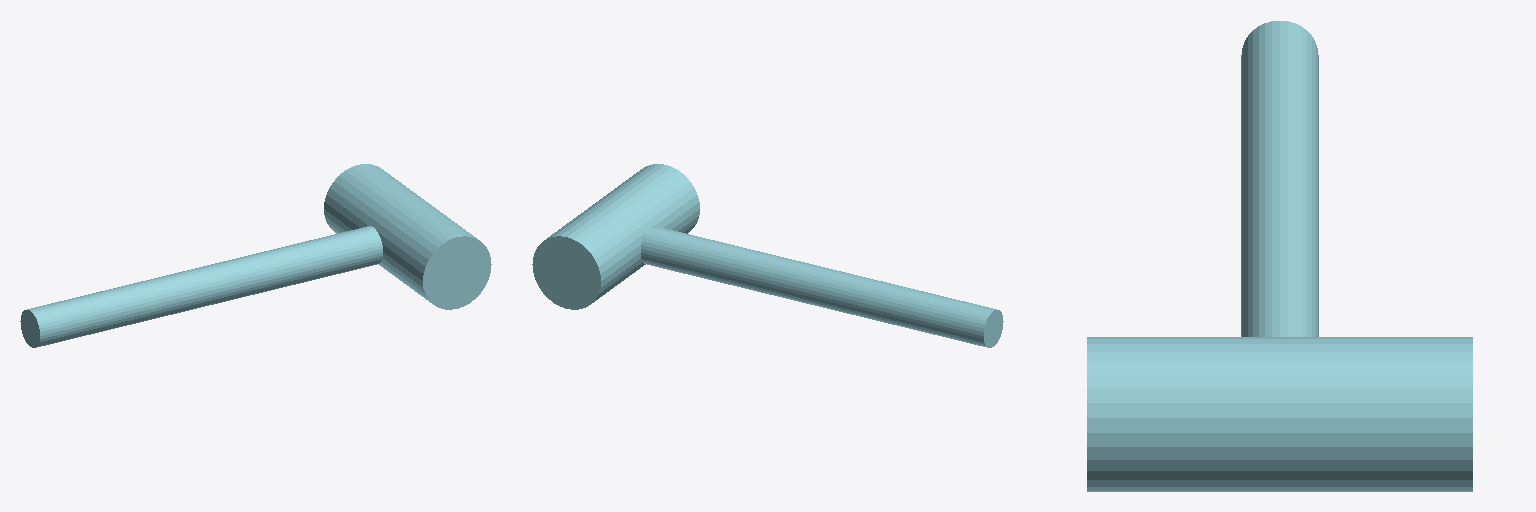
The robot description file, URDF, robot "primitive_cylindrical_mallet":
<?xml version="1.0"?>
<robot name="primitive_cylindrical_mallet">

  <link name="primitive_cylindrical_mallet">
    <!-- Handle -->
    <visual>
      <origin xyz="0 0 0" rpy="0 1.5707963267948966 0"/>
      <geometry>
        <cylinder length="0.2" radius="0.01"/>
      </geometry>
      <material name="material">
        <color rgba="0.639 0.847 0.882 1.0"/>
      </material>
    </visual>
    <collision>
      <origin xyz="0 0 0" rpy="0 1.5707963267948966 0"/>
      <geometry>
        <cylinder length="0.2" radius="0.01"/>
      </geometry>
    </collision>

    <!-- Head -->
    <visual>
      <origin xyz="0.12000000000000001 0 0" rpy="1.5707963267948966 0 0"/>
      <geometry>
        <cylinder length="0.1" radius="0.02"/>
      </geometry>
      <material name="material">
        <color rgba="0.639 0.847 0.882 1.0"/>
      </material>
    </visual>
    <collision>
      <origin xyz="0.12000000000000001 0 0" rpy="1.5707963267948966 0 0"/>
      <geometry>
        <cylinder length="0.1" radius="0.02"/>
      </geometry>
    </collision>

    <inertial>
      <density value="400.0"/>
    </inertial>
  </link>

</robot>

--- Facts derived from the render (not from the file) ---
The picture shows the robot from 3 angles, left to right: view 1: azimuth 30°, elevation 25°; view 2: azimuth 150°, elevation 25°; view 3: azimuth 270°, elevation 25°; orthographic projection.
Model primitive_cylindrical_mallet with 1 links and 0 joints (none), rooted at primitive_cylindrical_mallet, posed every joint at zero.
Links seen in each view (by area): view 1: primitive_cylindrical_mallet; view 2: primitive_cylindrical_mallet; view 3: primitive_cylindrical_mallet.
Link boxes in pixels (x1,y1,x2,y2): primitive_cylindrical_mallet: (20, 164, 491, 347); primitive_cylindrical_mallet: (532, 164, 1003, 347); primitive_cylindrical_mallet: (1087, 21, 1472, 491).
Size in the robot's own frame: 0.24 by 0.1 by 0.04 metres.
Geometry: primitives only (box / cylinder / sphere), no mesh files.
